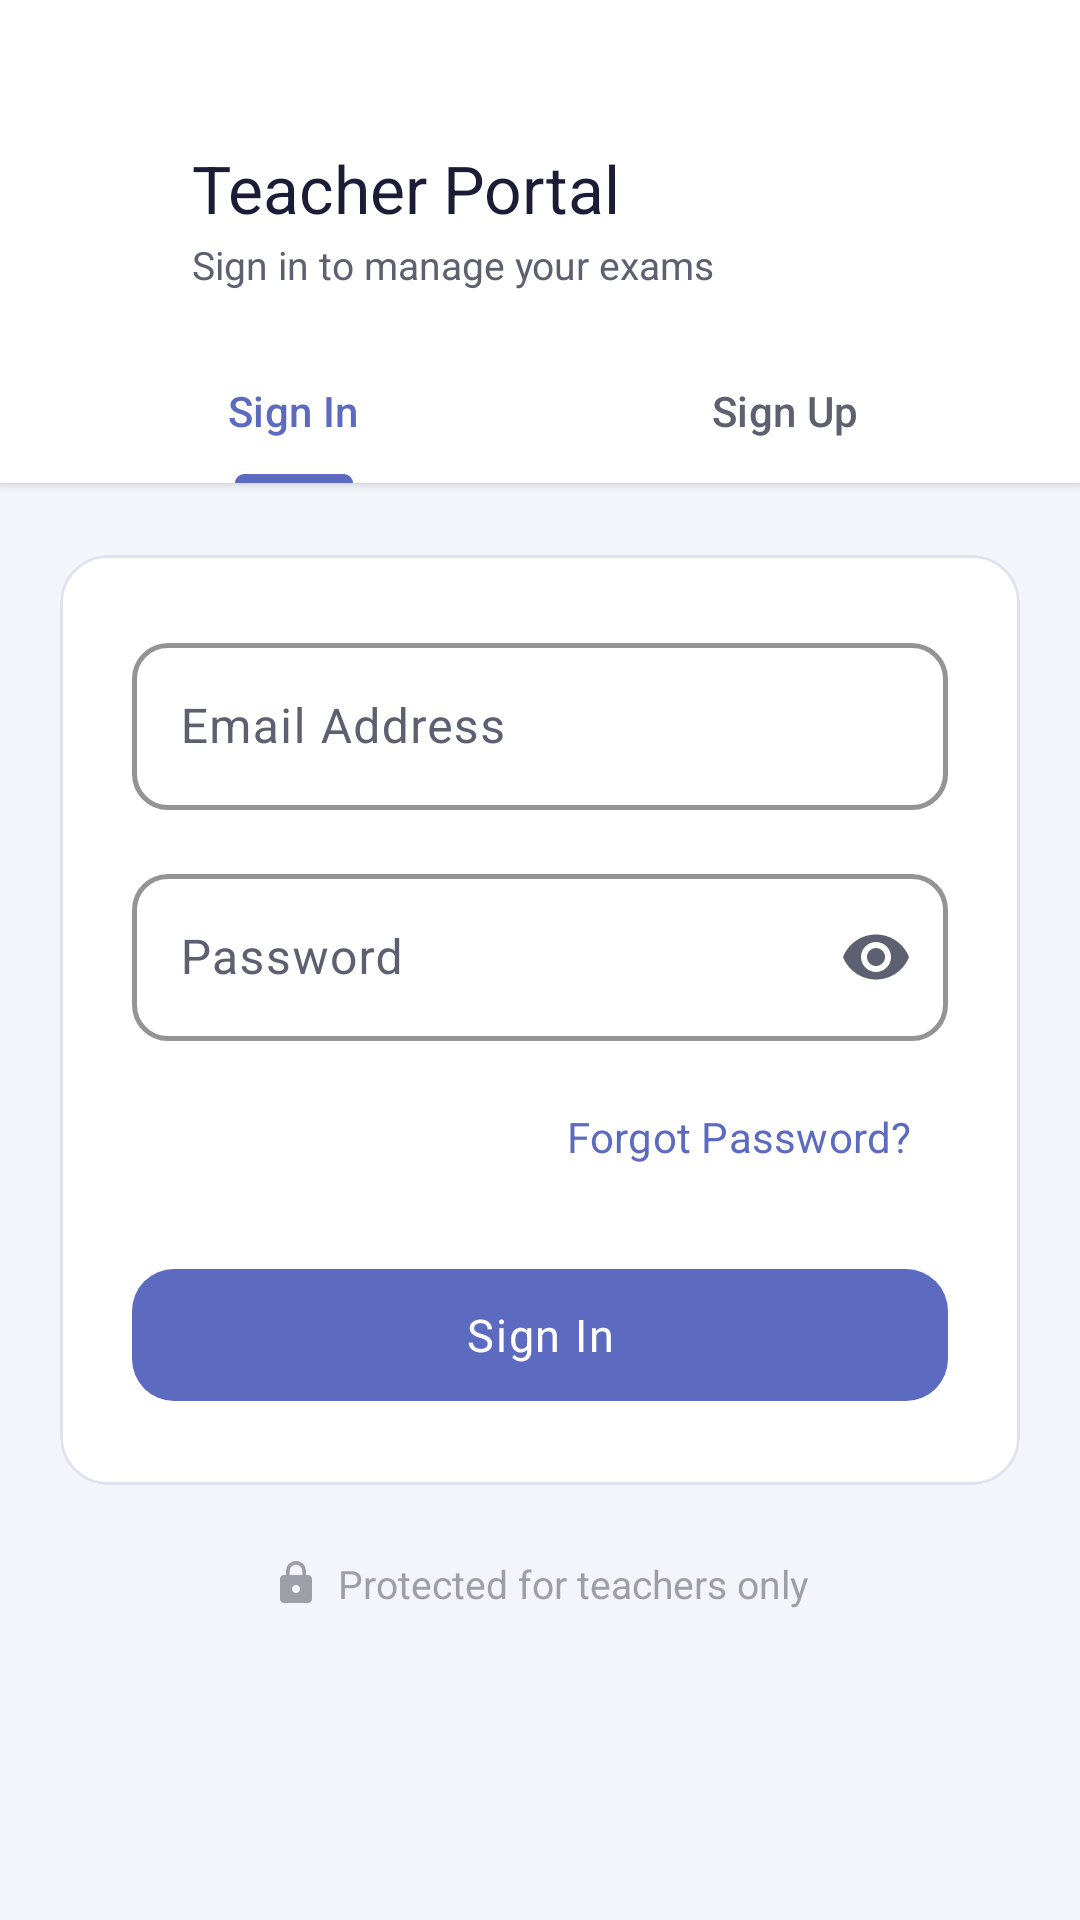

Icon click points for this 1080w x 1920h phone screenshot, format (x=x, y=y):
lock: (x=296, y=1582)
